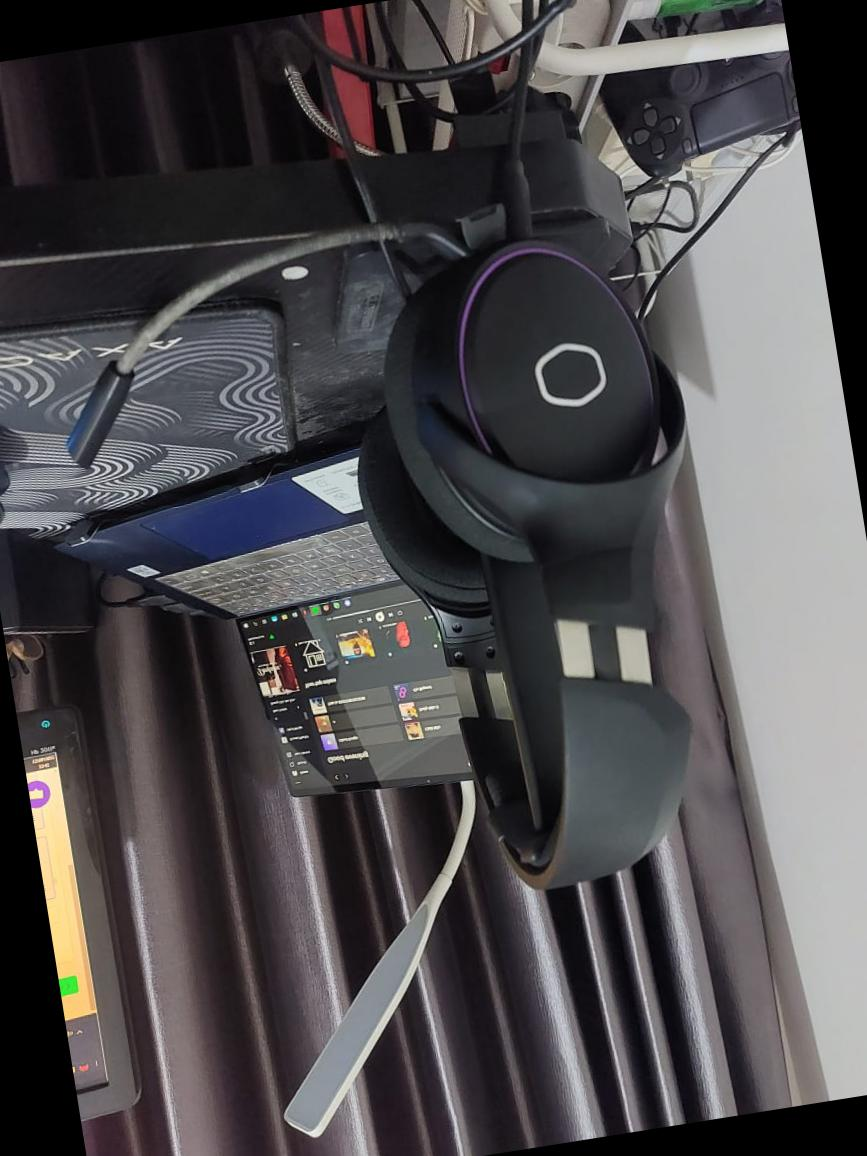Headset: (60, 160, 781, 952)
